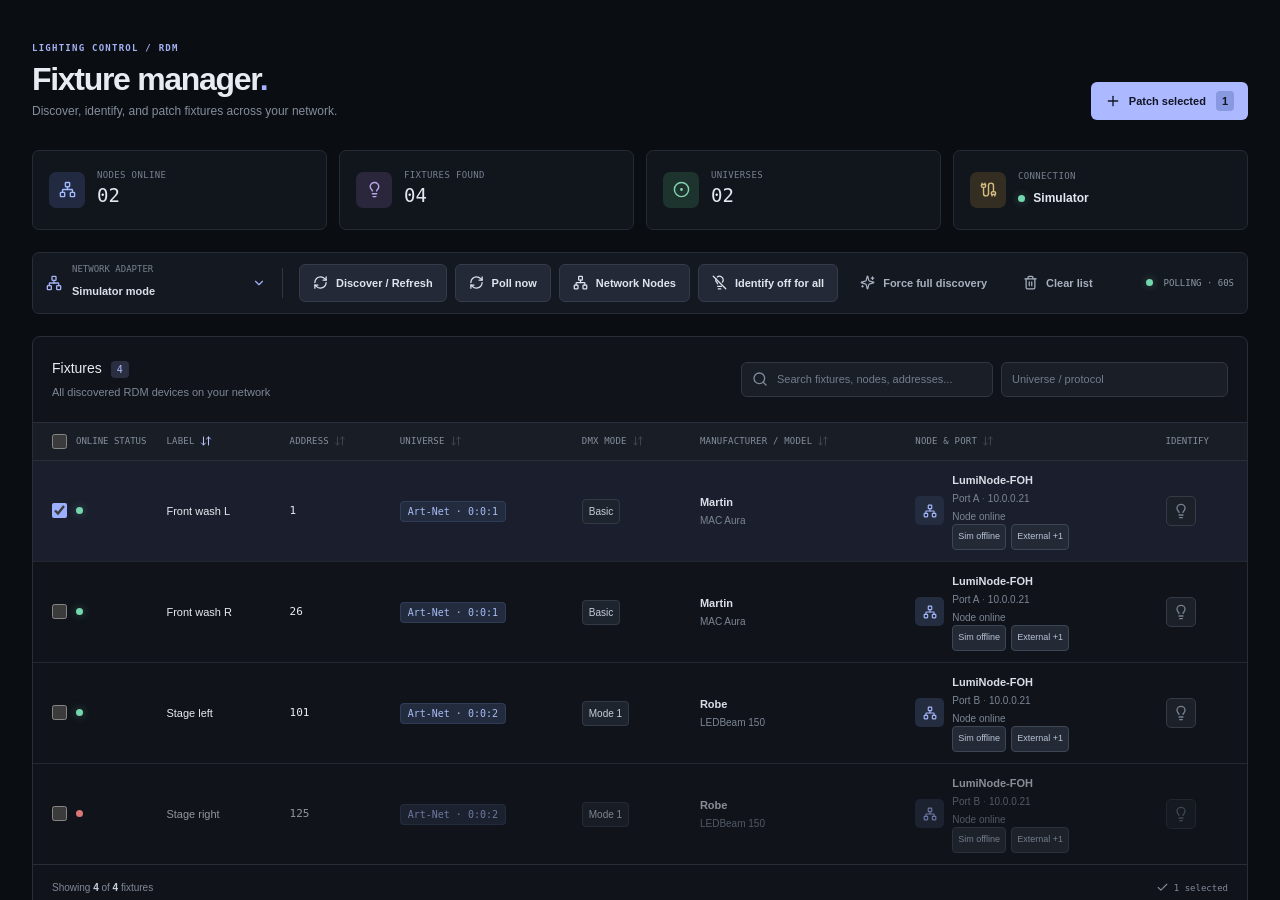
Scenario: hides mode changes for mixed types, mismatched or incomplete modes, and offline selections
Earlier steps of the test are not shown.
Click the row that starts with "Front wash R" at (640, 612), box [33,561,1247,662]
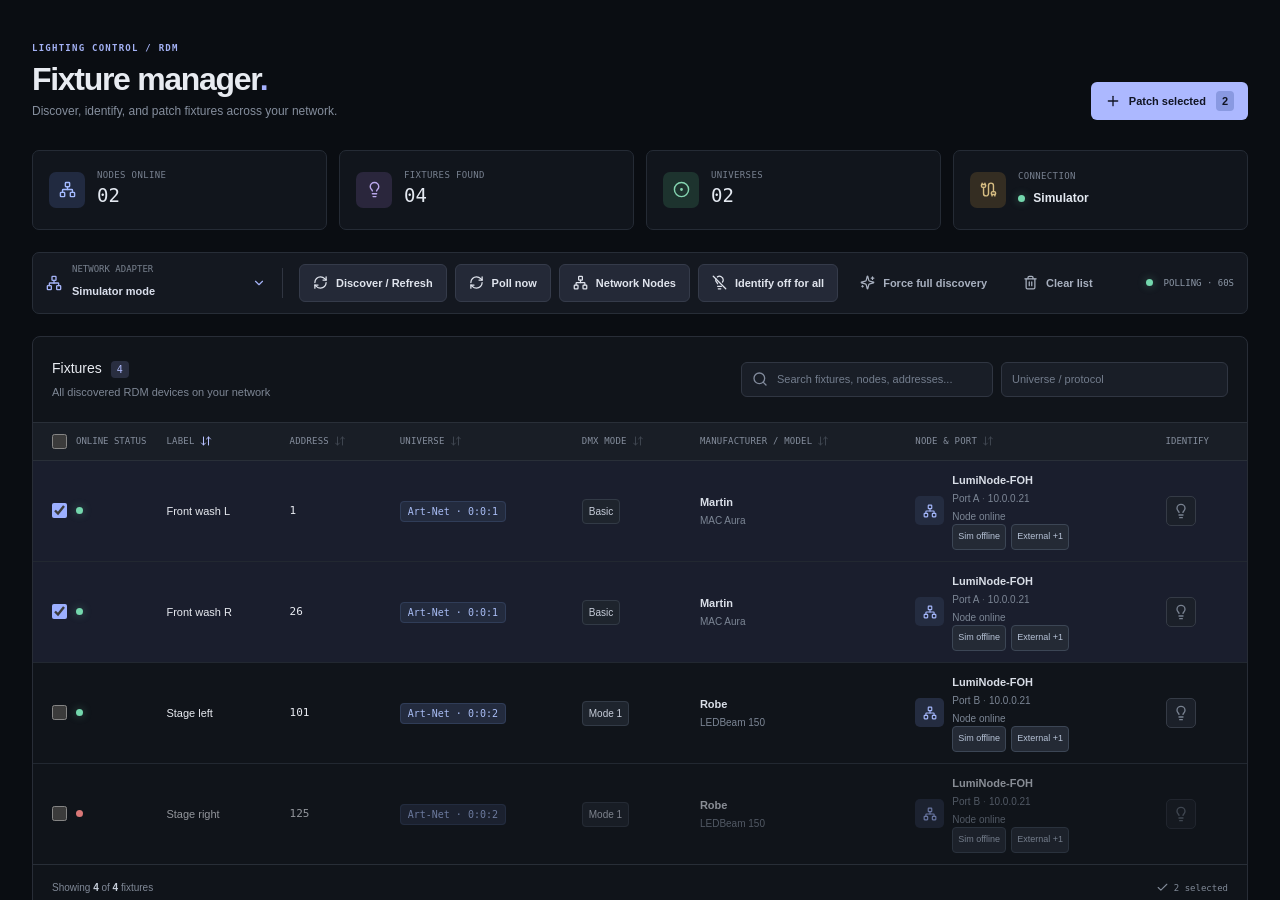
Right-click the row that starts with "Front wash L" at (640, 511), box [33,460,1247,561]
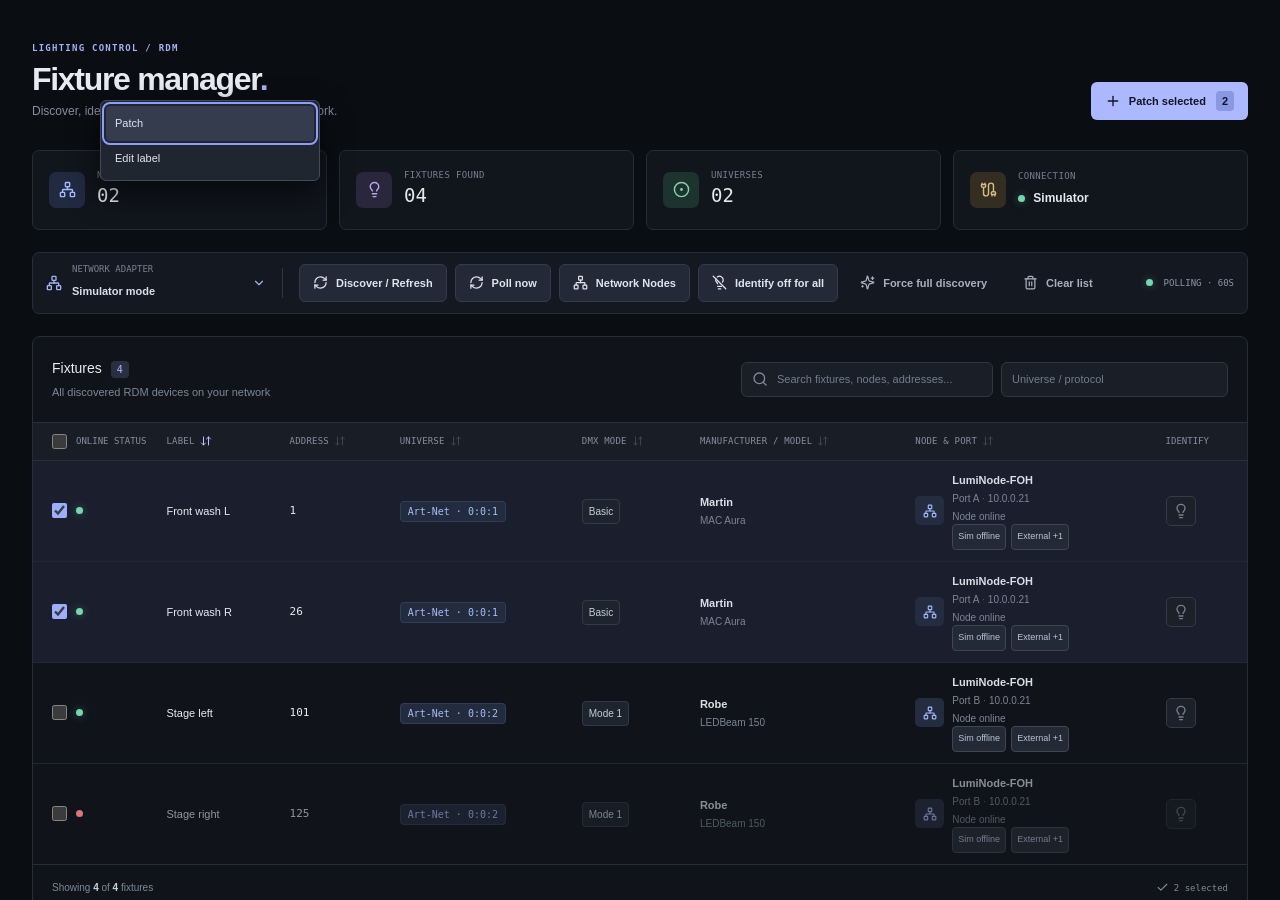
Click the row that starts with "Stage left" at (640, 713), box [33,662,1247,763]
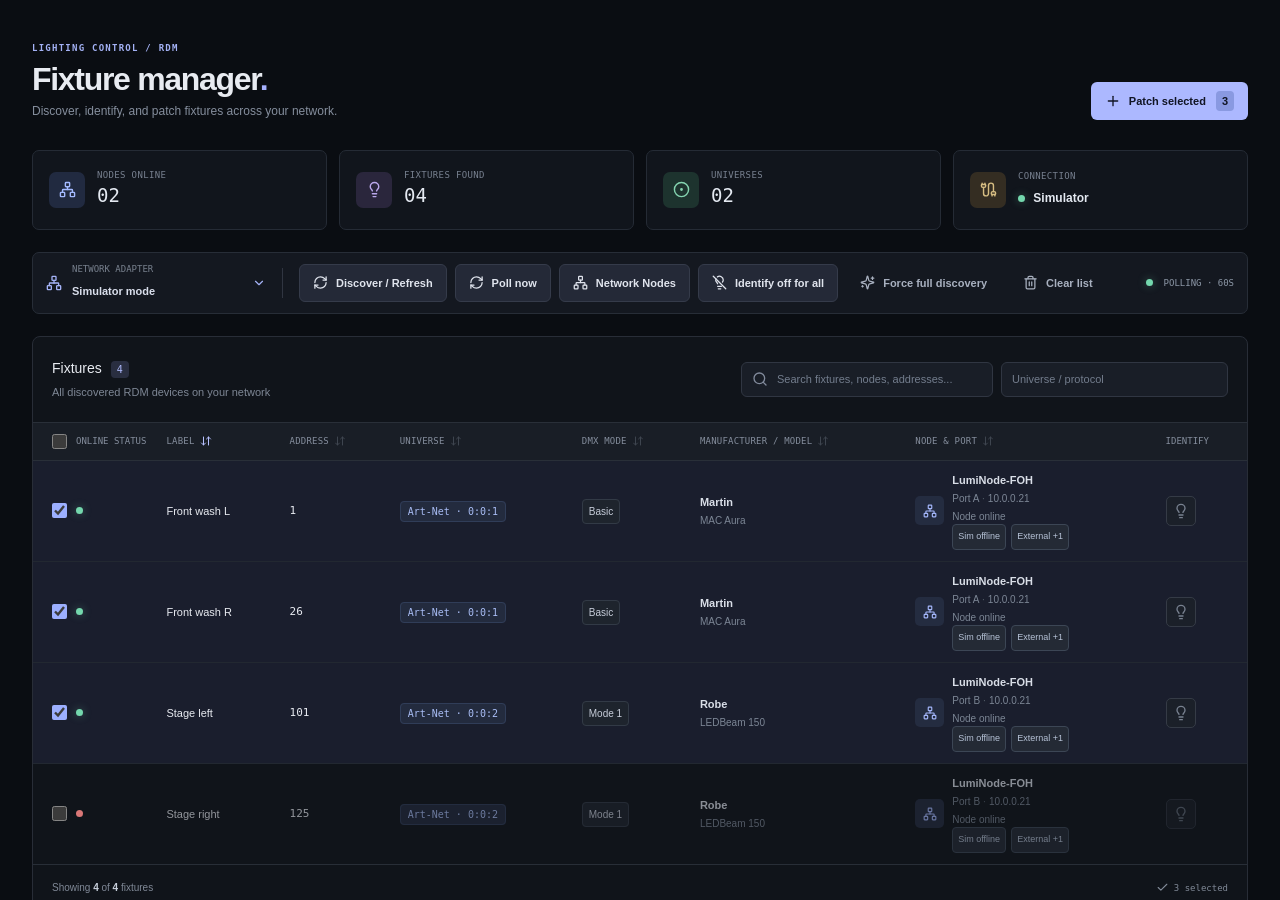
Right-click the row that starts with "Stage left" at (640, 713), box [33,662,1247,763]
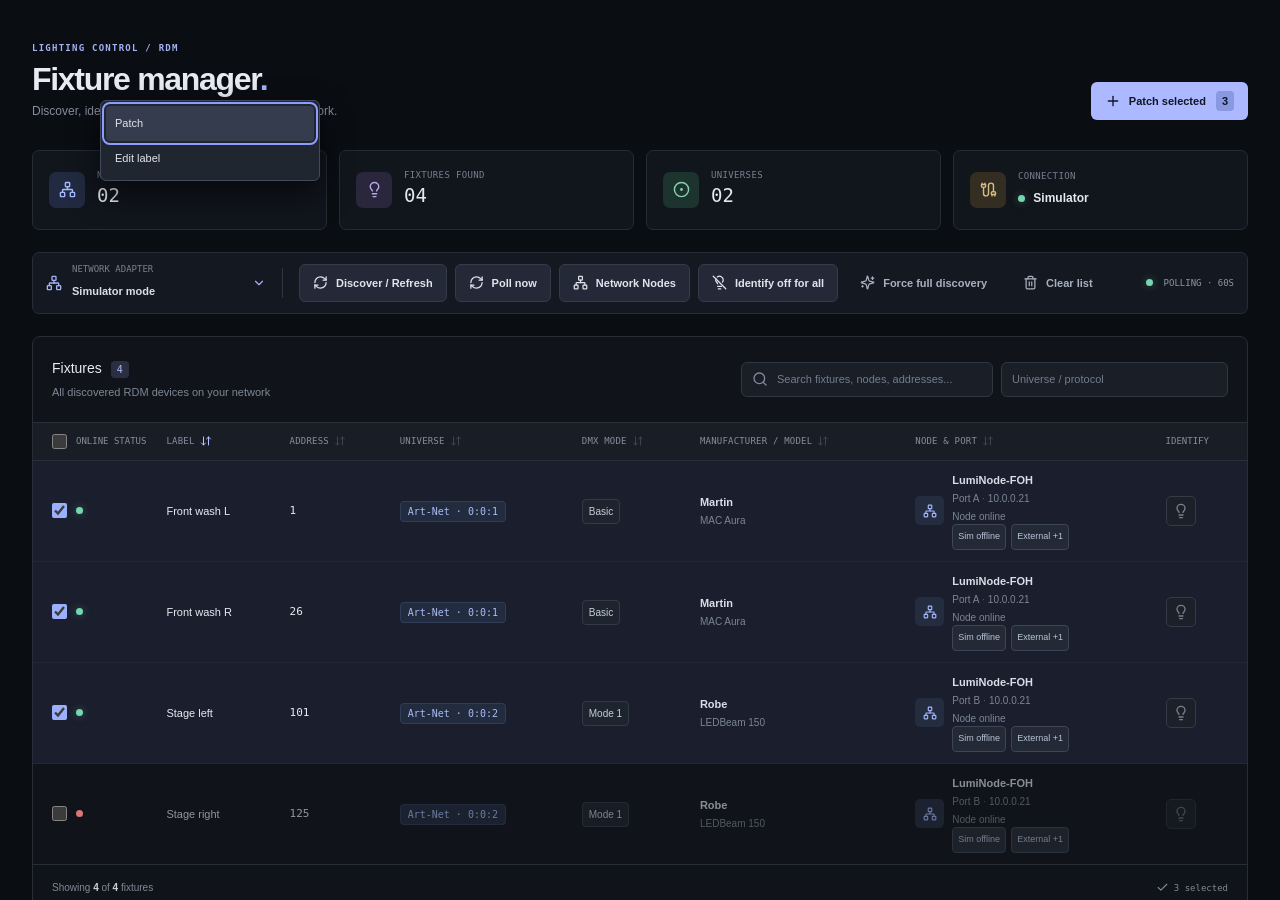
Click the row that starts with "Stage right" at (193, 814), box [33,763,1247,864]
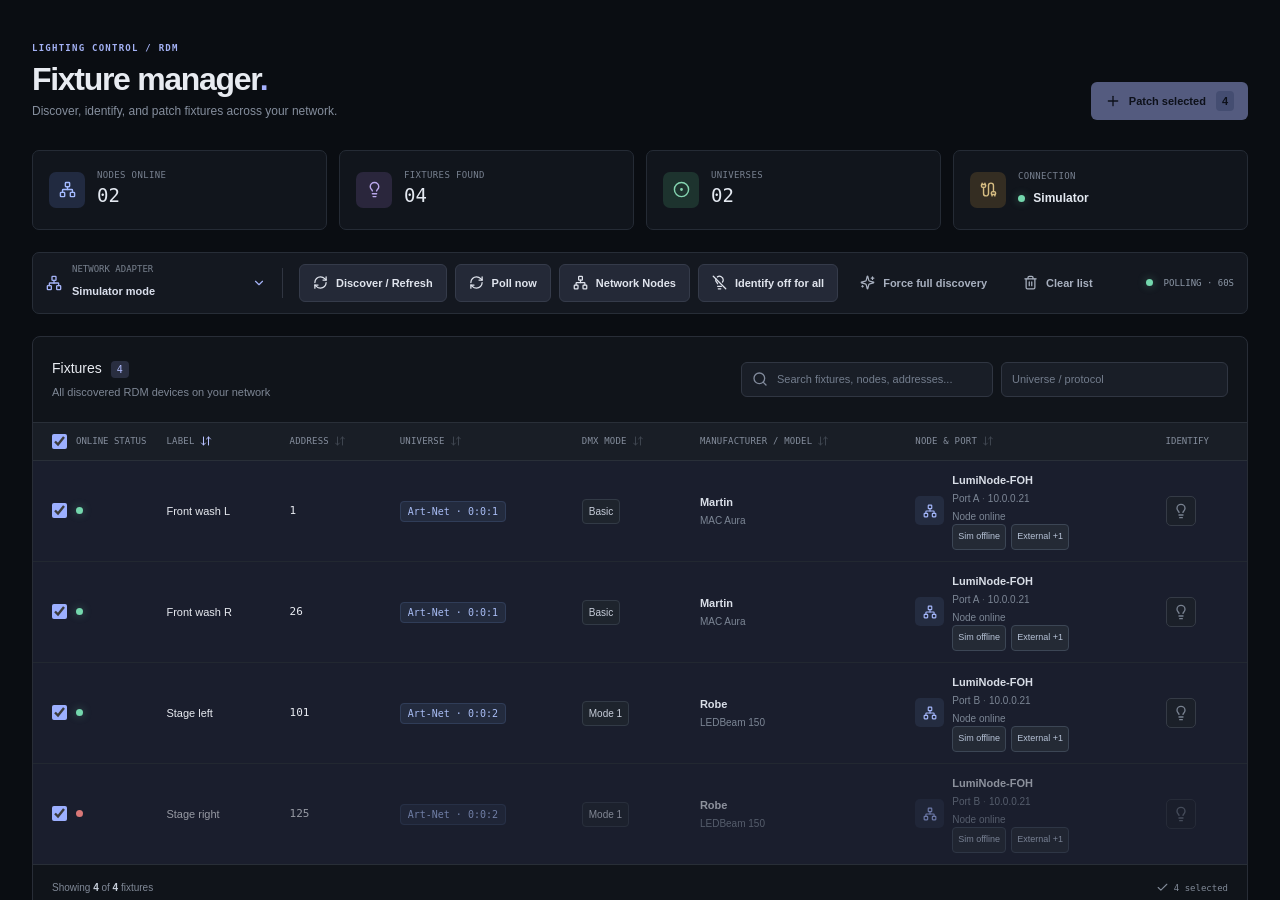
Right-click the row that starts with "Stage right" at (640, 814), box [33,763,1247,864]
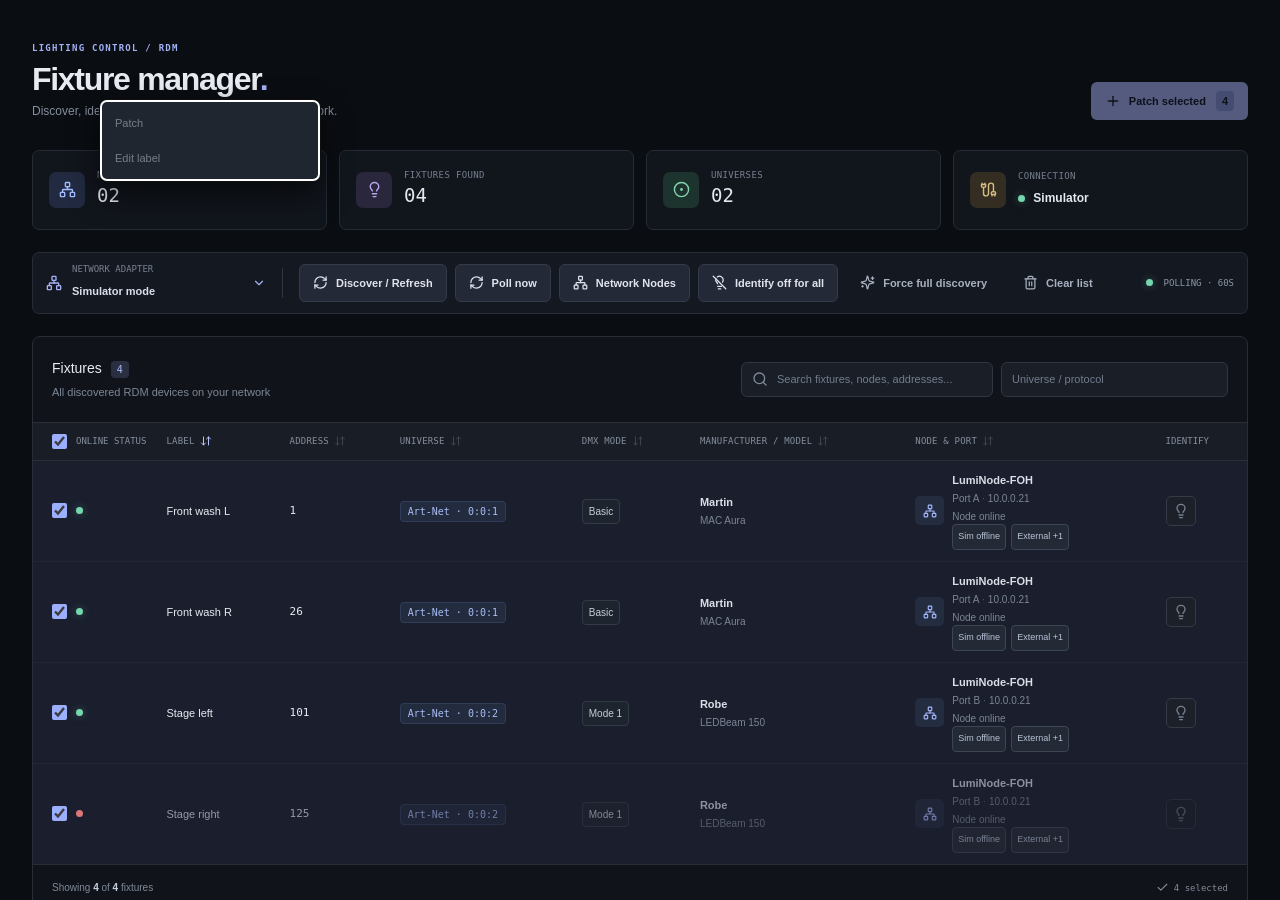
Result: the menu item "Patch" is disabled at [106,106,314,140]
